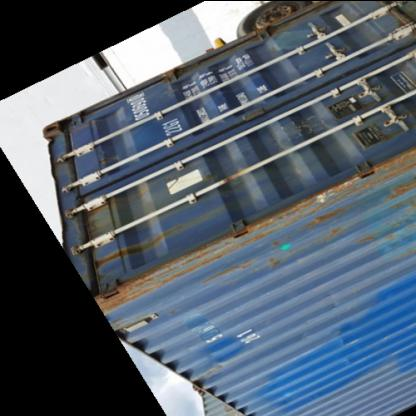Damage: (289, 174, 368, 238), (327, 298, 363, 364), (270, 104, 334, 140), (75, 202, 105, 244), (134, 224, 174, 252), (382, 179, 416, 210), (200, 264, 250, 284), (90, 246, 130, 270), (198, 352, 230, 378), (38, 121, 60, 158), (374, 124, 402, 146), (260, 252, 282, 269)
